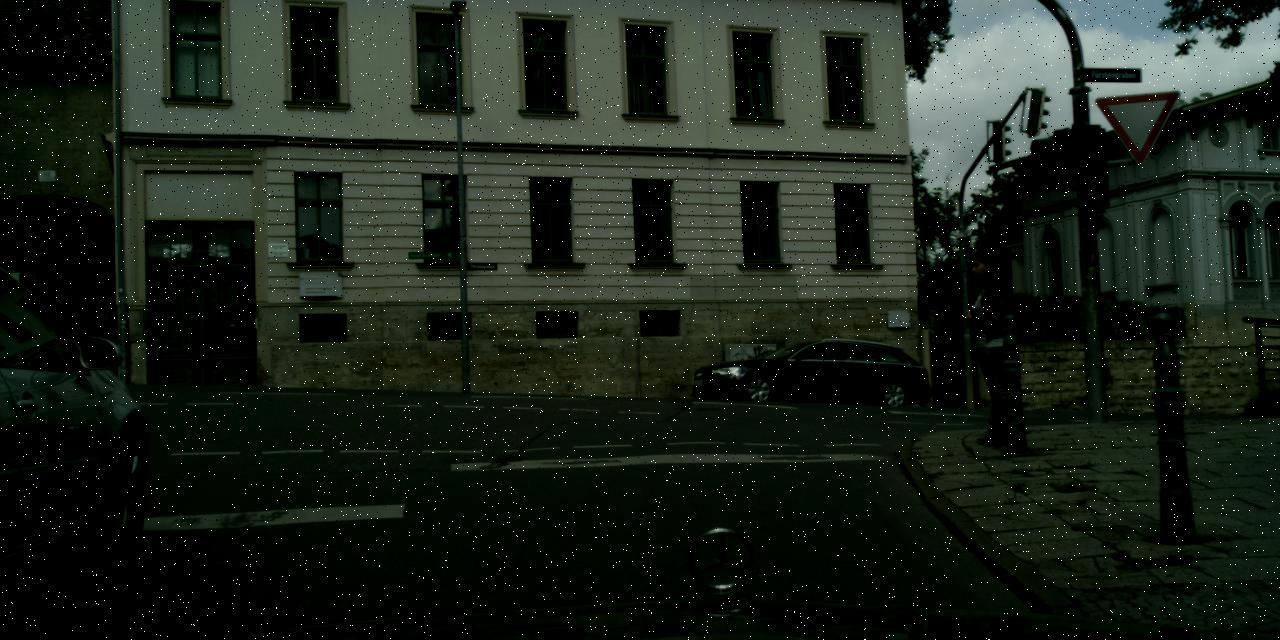ped: (951, 250, 1030, 446)
